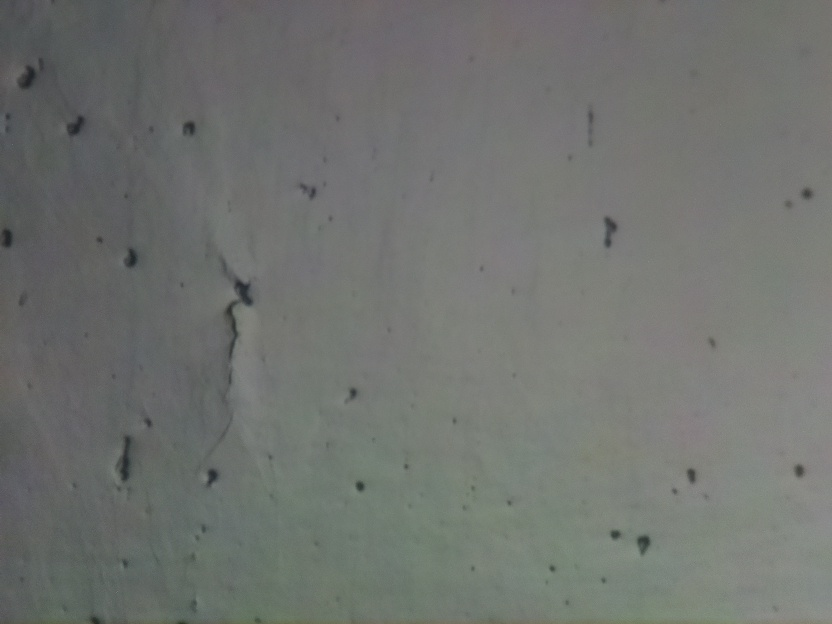crack: (226, 276, 255, 383)
